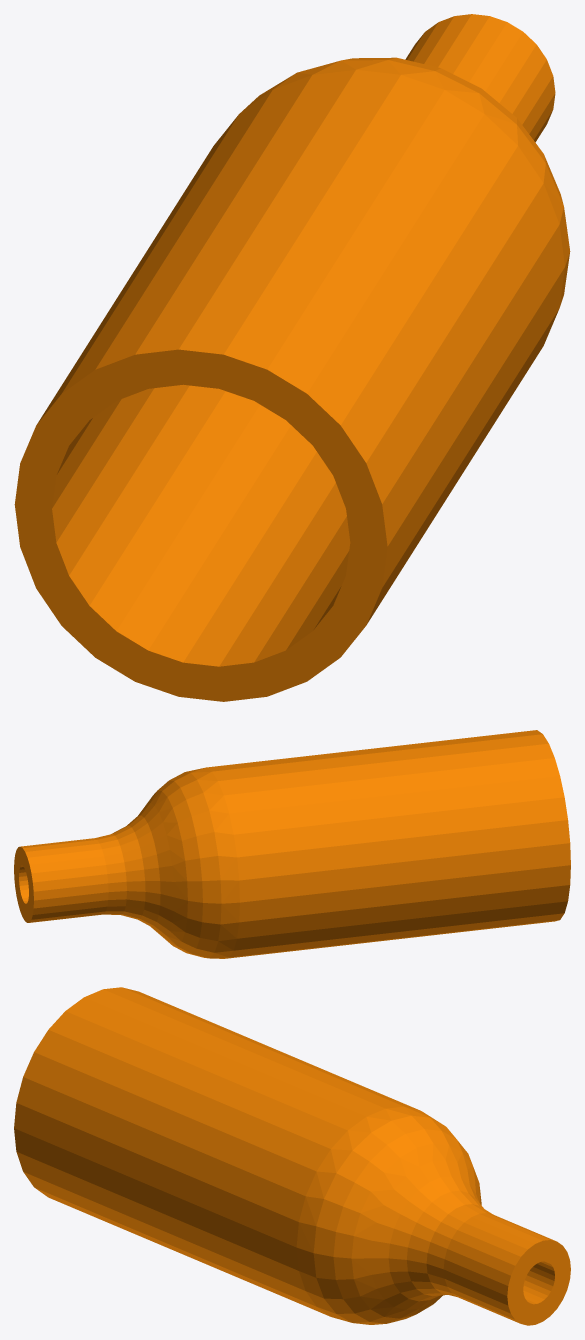
The picture shows the model from 3 angles, top to bottom: view 1: azimuth 30°, elevation 25°; view 2: azimuth 150°, elevation 25°; view 3: azimuth 270°, elevation 25°; orthographic projection. The views are drawn at different scales.
Visible parts, largest first — view 1: Part 1; view 2: Part 1; view 3: Part 1.
Boxes of the visible parts, <box> form: Part 1: <box>14,14,570,701</box>; Part 1: <box>14,730,570,958</box>; Part 1: <box>14,987,570,1325</box>.
Bounding box in the file's own units: 24.75 × 9.93 × 24.75.
